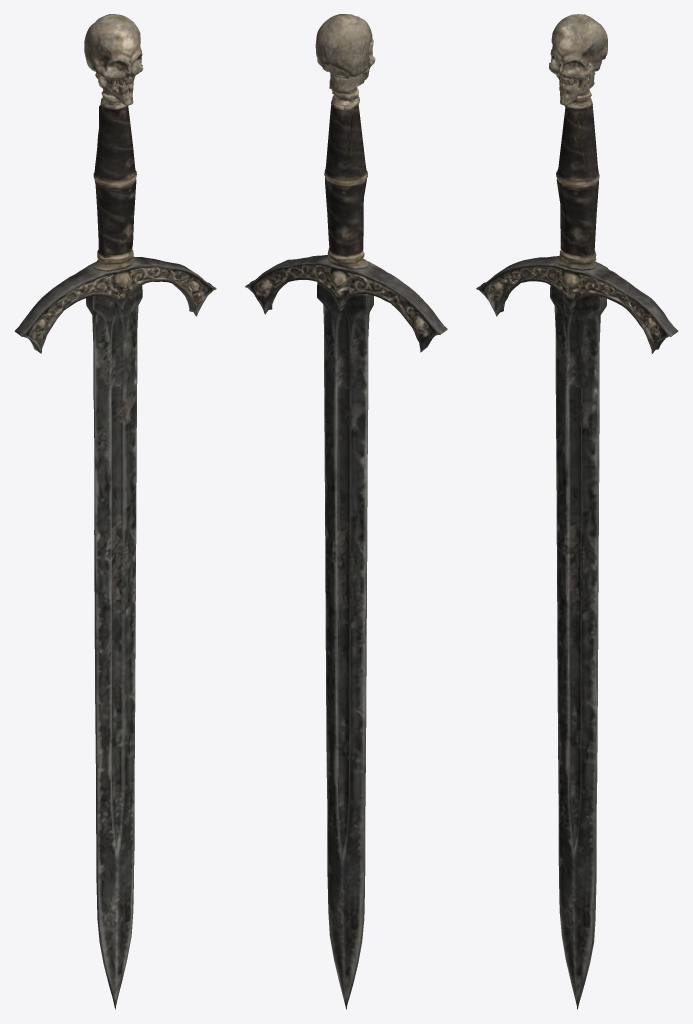
File: rapier.glb
3 views of the same model, side by side, from view 1: azimuth 30°, elevation 25°; view 2: azimuth 150°, elevation 25°; view 3: azimuth 330°, elevation 25° (orthographic).
Bounding box in the file's own units: 0.1958 × 0.9502 × 0.0566.
1 material, 1 textured.
